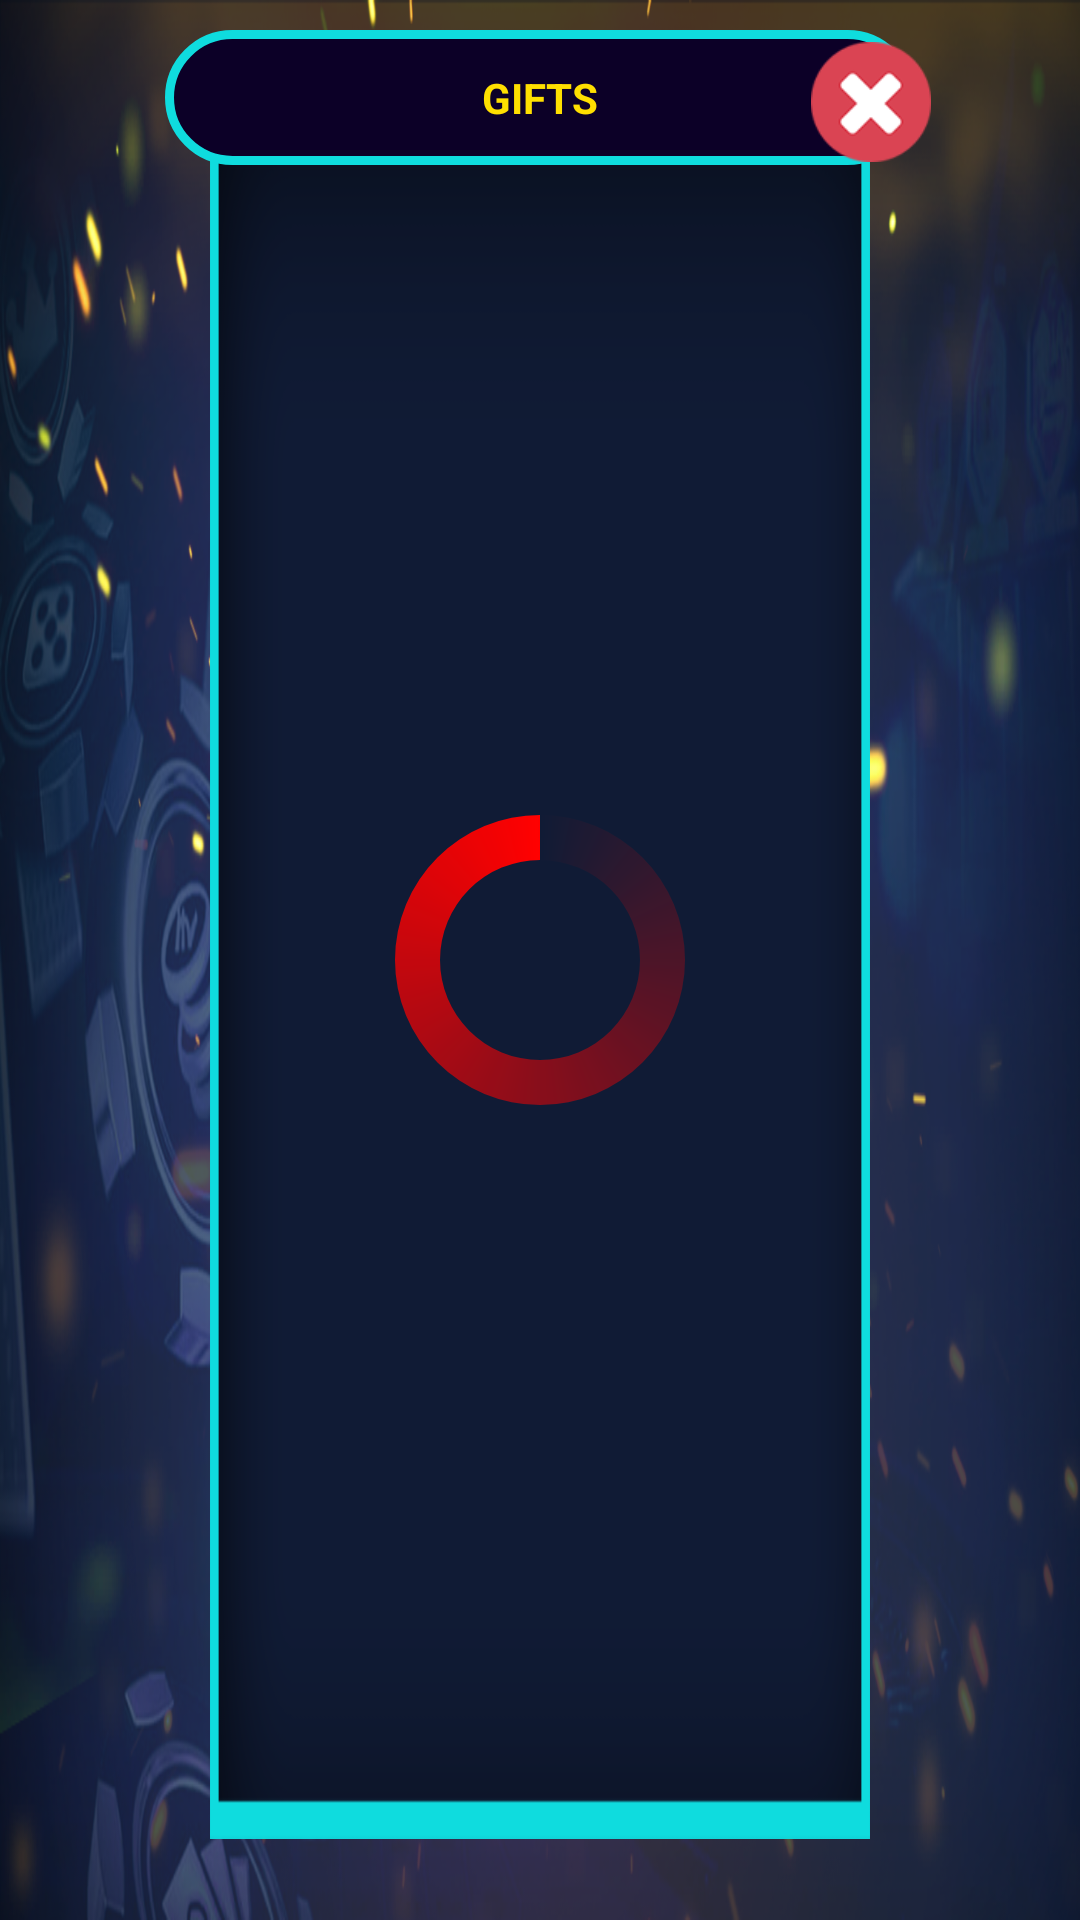

Point at icon controls on the screen. Image size 1080×1920, points as (x,y).
close: (871,102)
